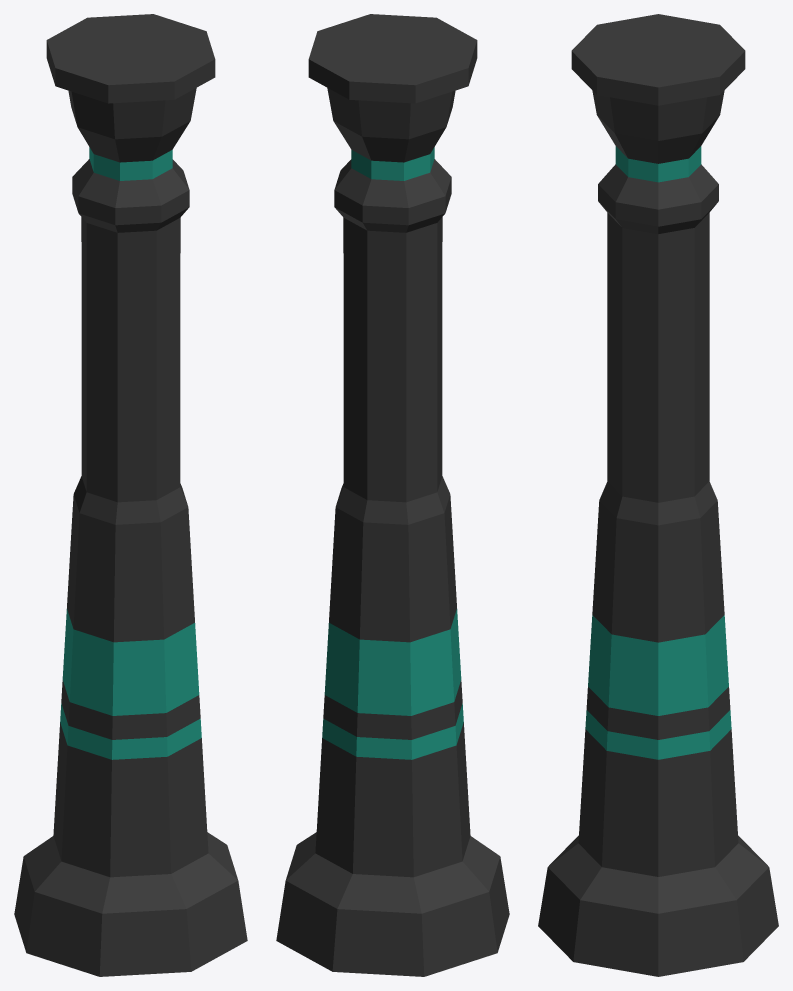
Rendered from Column_Tall_FBX.fbx.
3 views of the same model, side by side, from view 1: azimuth 30°, elevation 25°; view 2: azimuth 150°, elevation 25°; view 3: azimuth 270°, elevation 25° (orthographic).
Parts seen in each view (by area): view 1: Pillar001; view 2: Pillar001; view 3: Pillar001.
Boxes of the visible parts, left/top/right/bottom form: Pillar001: left=14, top=14, right=247, bottom=976; Pillar001: left=276, top=14, right=509, bottom=976; Pillar001: left=538, top=14, right=778, bottom=976.
Size of the model in its own units: 112 by 449 by 112.
